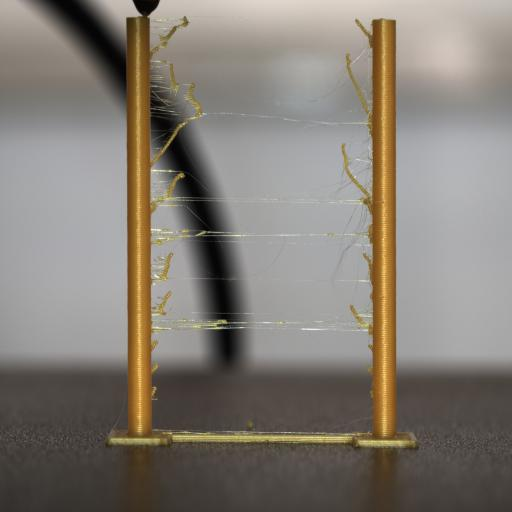stringing: (304, 50, 366, 107), (335, 198, 371, 270), (150, 108, 192, 168), (322, 146, 364, 204), (149, 14, 189, 61), (176, 202, 224, 236), (149, 66, 183, 113), (152, 171, 184, 215), (251, 233, 283, 276), (345, 119, 369, 163), (350, 304, 372, 332), (153, 251, 173, 281), (298, 321, 324, 344), (152, 290, 172, 316), (354, 18, 372, 46), (152, 232, 188, 246), (354, 243, 360, 313), (150, 44, 162, 59), (364, 299, 372, 316), (154, 252, 167, 262), (150, 338, 158, 352), (149, 201, 157, 214), (151, 362, 158, 375), (151, 386, 157, 398), (366, 365, 373, 375)
